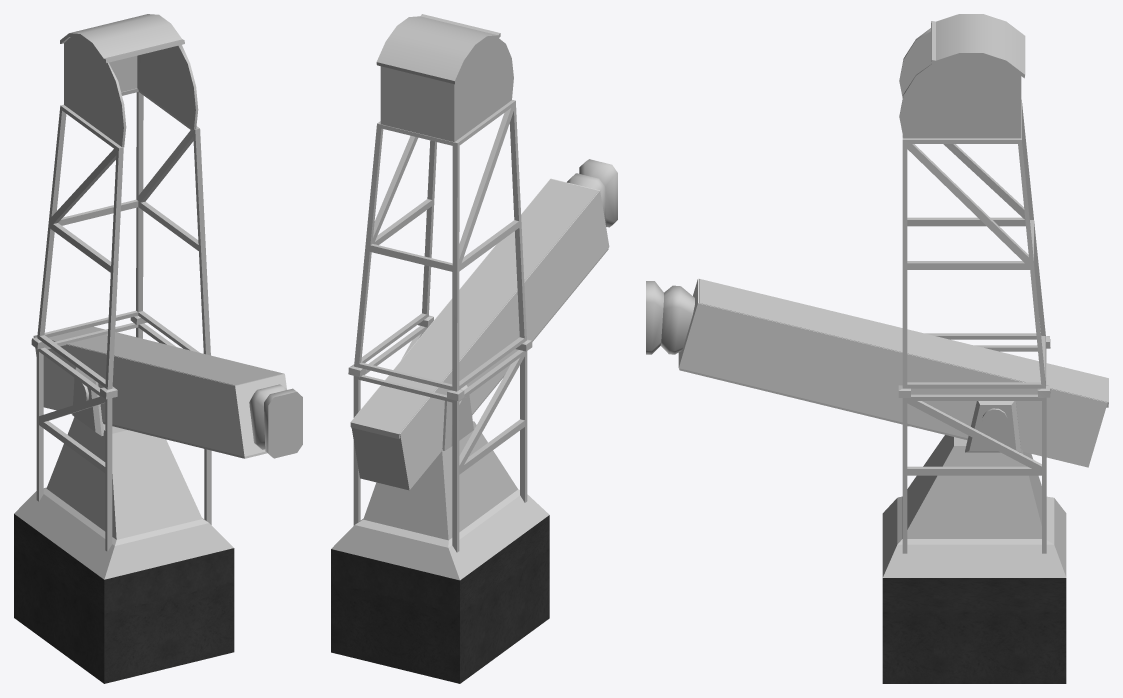
Rendered from Launch_Clamp_Apollo.FBX.
3 views of the same model, side by side, from view 1: azimuth 30°, elevation 25°; view 2: azimuth 150°, elevation 25°; view 3: azimuth 270°, elevation 25° (orthographic). The views are drawn at different scales.
Visible parts, largest first — view 1: Hood_Strut, Base, Arm_Col, Arm, Tower, Hood_Cover; view 2: Hood_Strut, Base, Arm, Arm_Col, Tower, Hood_Cover; view 3: Hood_Strut, Arm_Col, Arm, Base, Tower, Hood_Cover.
Part boxes in pixels (x1,y1,x2,y2): Hood_Strut: (14, 37, 233, 579); Base: (14, 548, 234, 683); Arm_Col: (34, 336, 286, 456); Arm: (33, 326, 302, 458); Tower: (14, 514, 234, 613); Hood_Cover: (60, 14, 184, 63); Hood_Strut: (331, 38, 549, 580); Base: (331, 549, 549, 683); Arm: (350, 159, 617, 438); Arm_Col: (351, 178, 609, 490); Tower: (331, 515, 549, 613); Hood_Cover: (376, 14, 500, 84); Hood_Strut: (882, 28, 1066, 577); Arm_Col: (678, 278, 1107, 467); Arm: (646, 279, 1108, 440); Base: (882, 612, 1066, 683); Tower: (882, 578, 1066, 612); Hood_Cover: (931, 14, 1025, 78).
Size of the model in its own units: 100 by 448 by 304.
